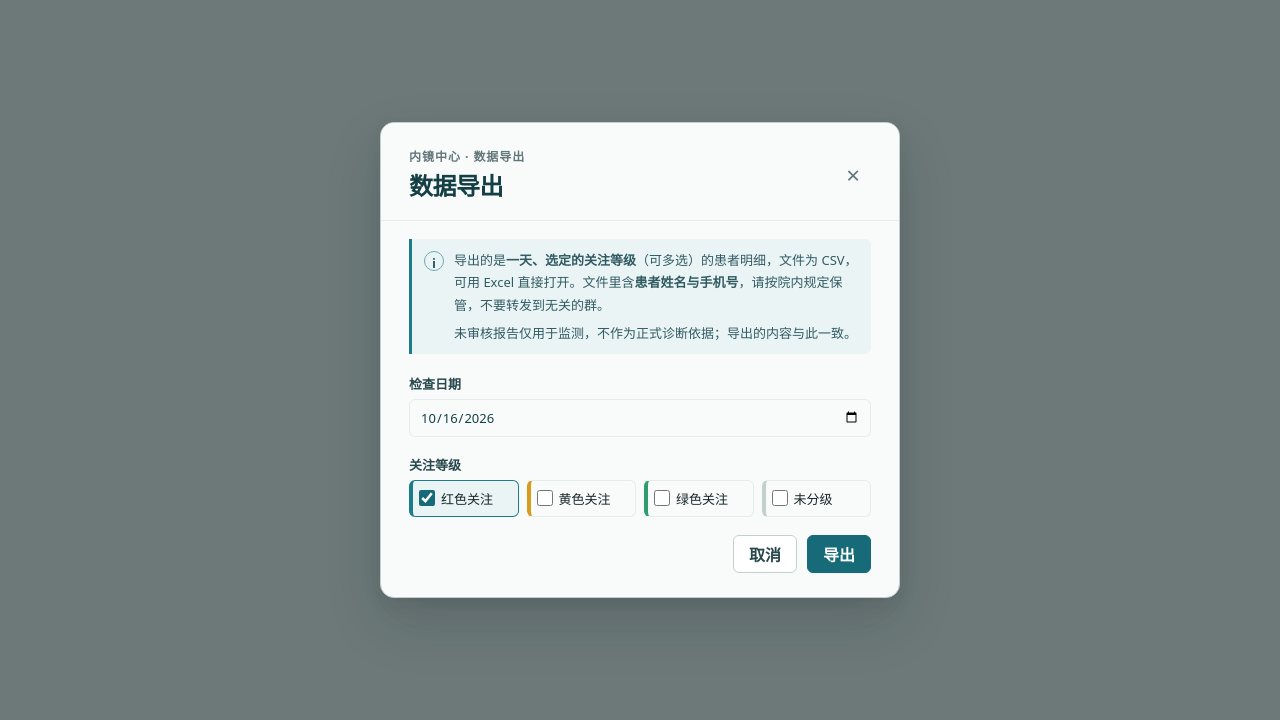
it: ExportModal (issue #139) › sends the chosen day and levels, then saves the file under the agreed name
Type "2026-08-20" into the date field labelled "检查日期" at (640,418), box top-left (409, 399), bottom-right (871, 437)
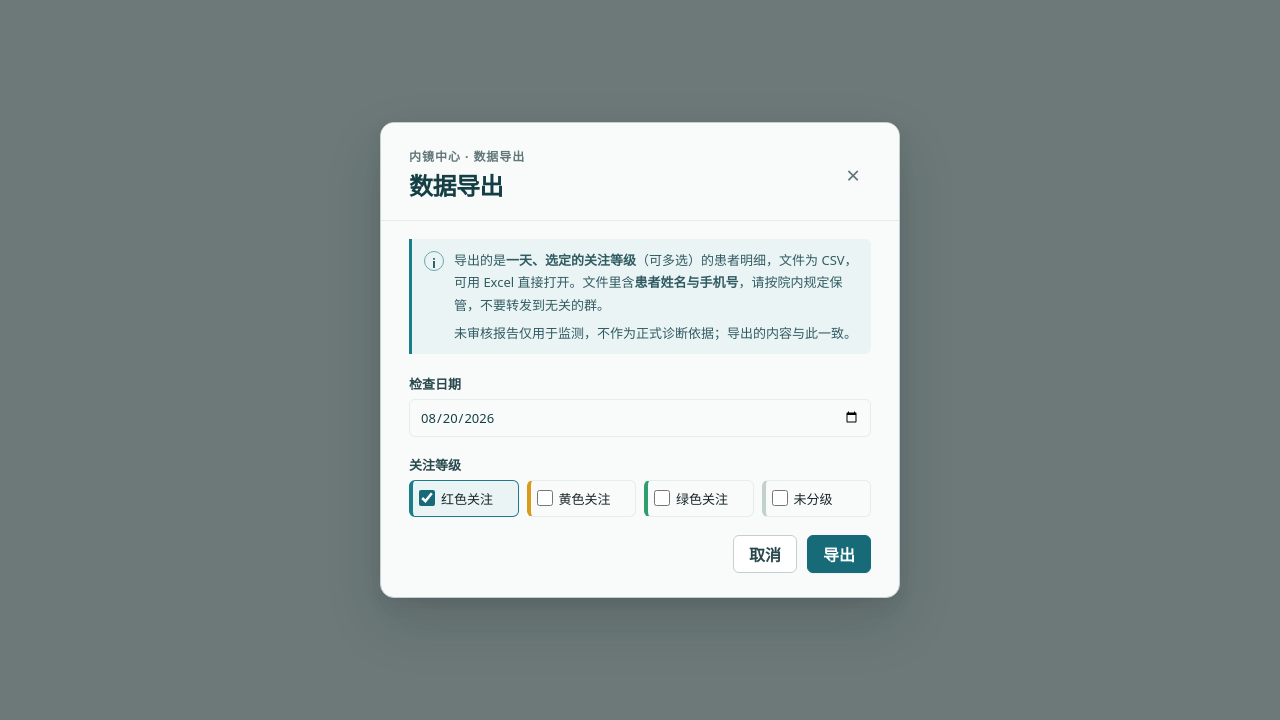
Click the button "导出" at (839,554), box top-left (807, 535), bottom-right (871, 573)
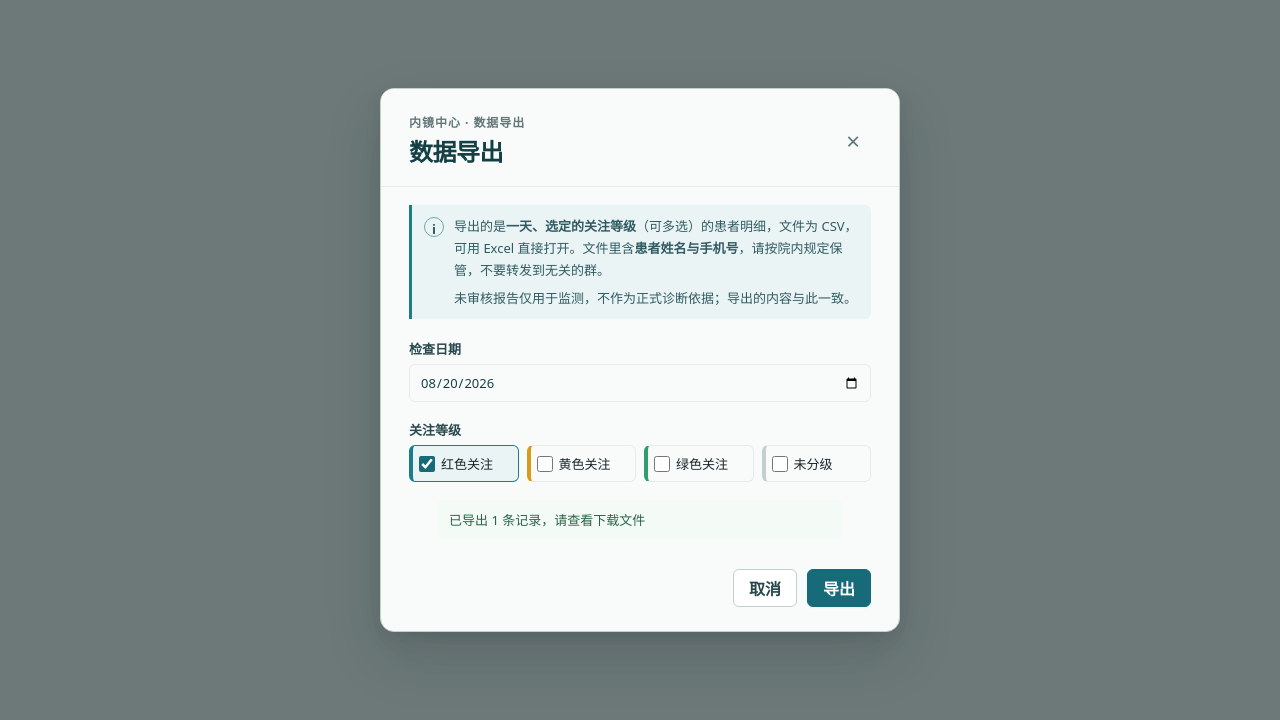
Expected: the button "导出" is enabled, top-left (807, 569), bottom-right (871, 607)
Expected: the message shows "已导出 1 条记录", top-left (449, 511), bottom-right (645, 529)
